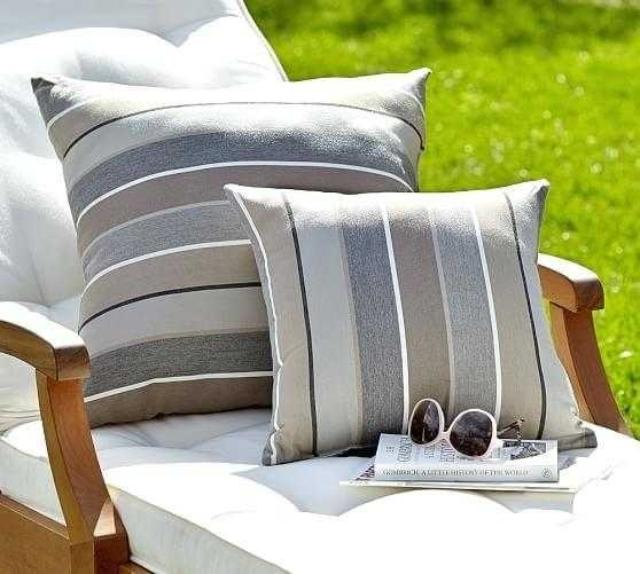pillow: (33, 67, 444, 416), (222, 177, 596, 467)
